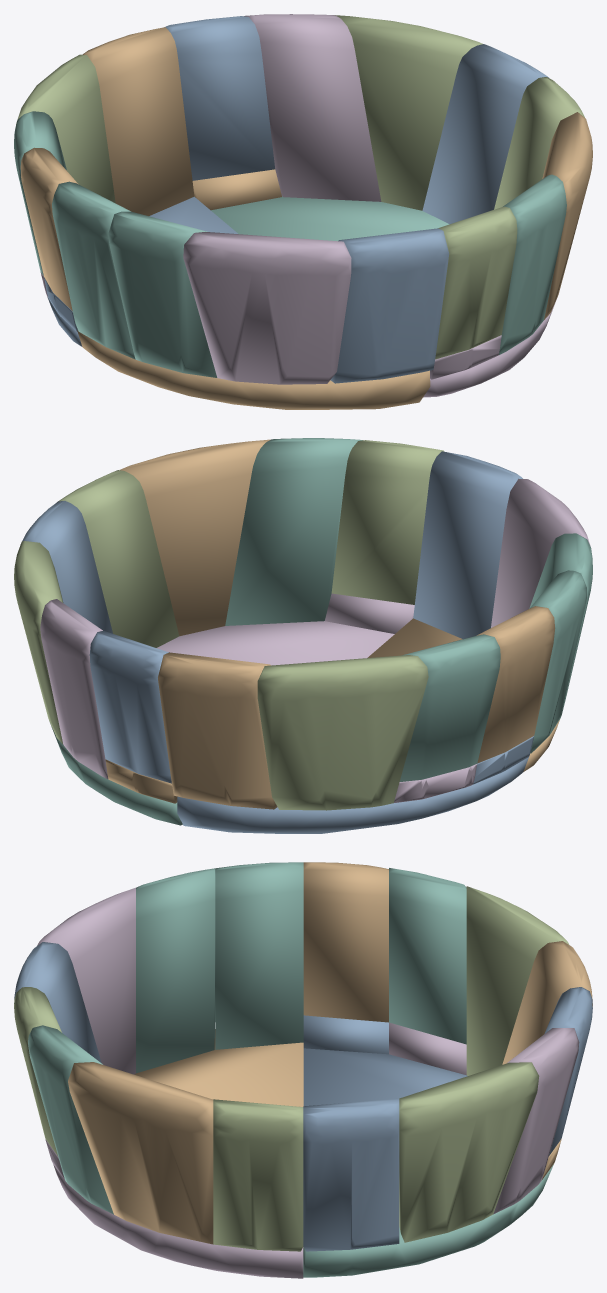
3 renders of one model, top to bottom at view 1: azimuth 30°, elevation 25°; view 2: azimuth 150°, elevation 25°; view 3: azimuth 270°, elevation 25°, orthographic.
Size of the model in its own units: 1.91 by 0.7248 by 1.91.
